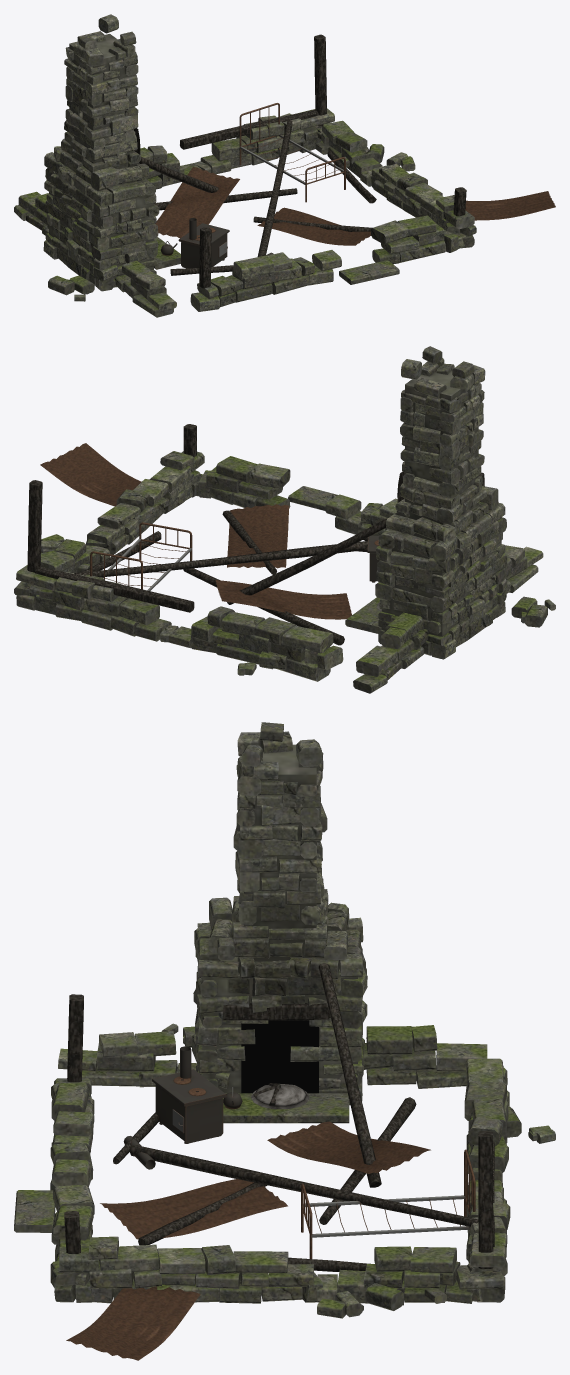
The model's file is ruin.glb.
3 renders of one model, top to bottom at view 1: azimuth 30°, elevation 25°; view 2: azimuth 150°, elevation 25°; view 3: azimuth 270°, elevation 25°, orthographic. The views are drawn at different scales.
Visible parts, largest first — view 1: ruin; view 2: ruin; view 3: ruin.
Boxes of the visible parts, left/top/right/bottom form: ruin: left=14, top=14, right=555, bottom=317; ruin: left=14, top=346, right=555, bottom=693; ruin: left=14, top=722, right=555, bottom=1360.
Bounding box in the file's own units: 9.41 × 4.54 × 6.27.
Materials: 1 (1 with a texture image).
